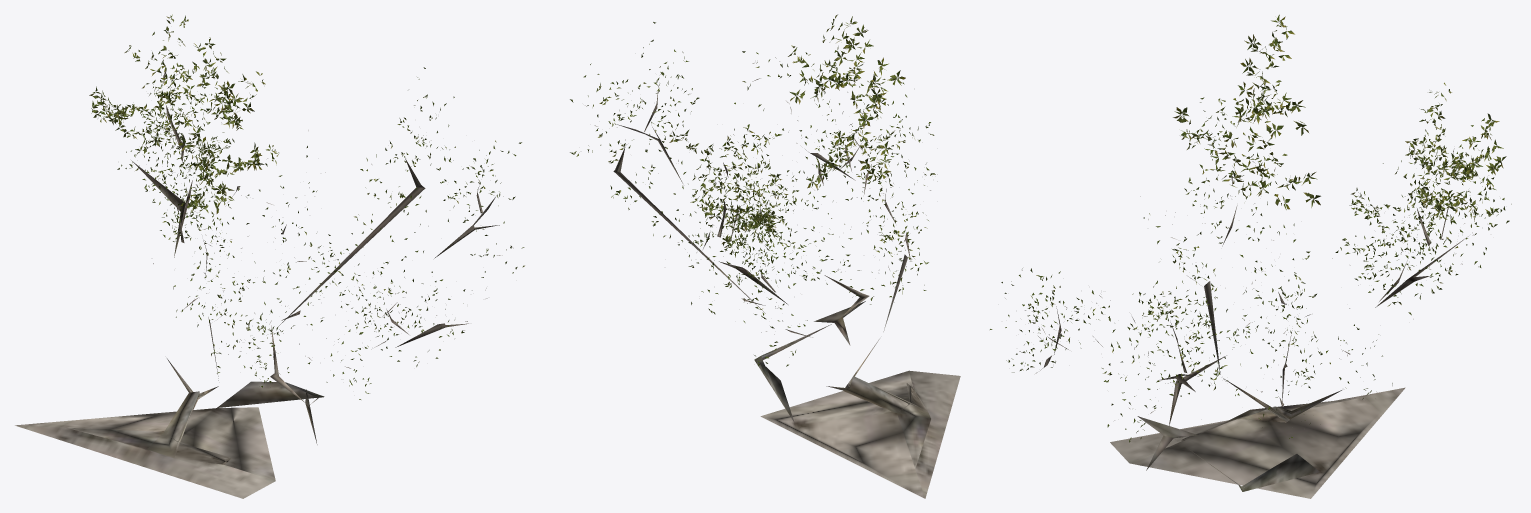
The model's file is island_tree_03_far.glb.
3 renders of one model, left to right at view 1: azimuth 30°, elevation 25°; view 2: azimuth 150°, elevation 25°; view 3: azimuth 270°, elevation 25°, orthographic. The views are drawn at different scales.
Parts seen in each view (by area): view 1: island_tree_03_LOD0; view 2: island_tree_03_LOD0; view 3: island_tree_03_LOD0.
Boxes of the visible parts, left/top/right/bottom form: island_tree_03_LOD0: left=15, top=14, right=524, bottom=498; island_tree_03_LOD0: left=570, top=14, right=960, bottom=498; island_tree_03_LOD0: left=990, top=14, right=1511, bottom=498.
Size of the model in its own units: 2.81 by 2.61 by 2.8.
Materials: 3 (3 with a texture image).
